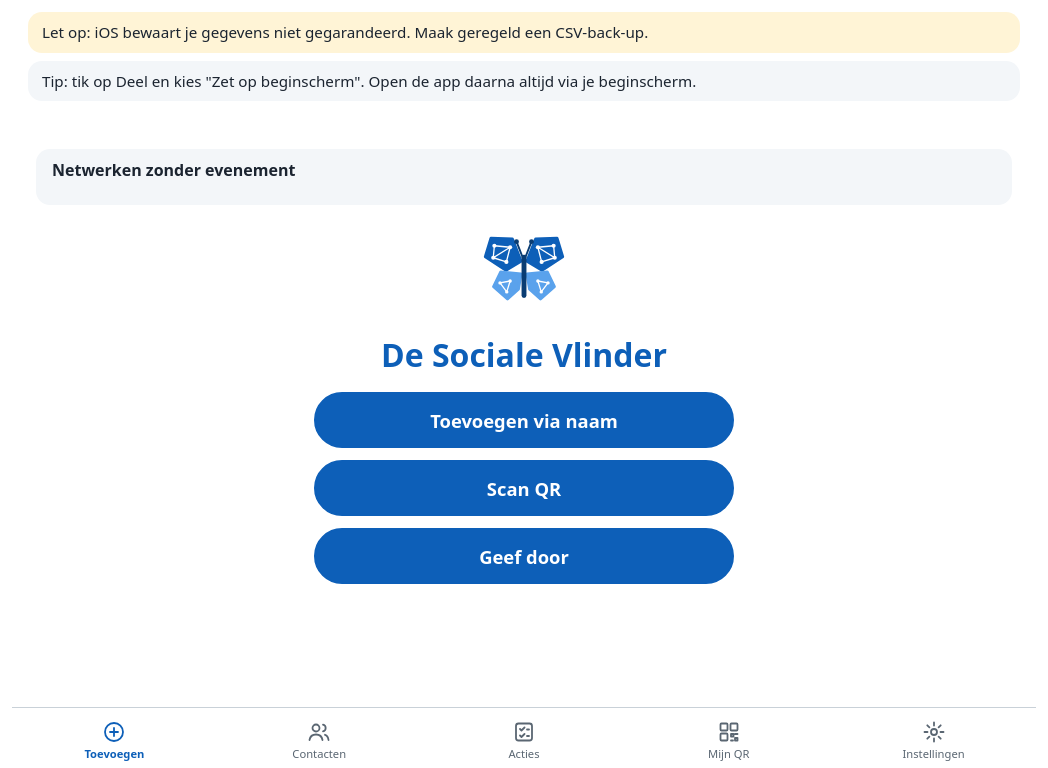
Contact list (F7 User Story 1) › shows a friendly empty message with a way to add someone
Click the button "Contacten" at (319,740), box [217, 712, 422, 767]
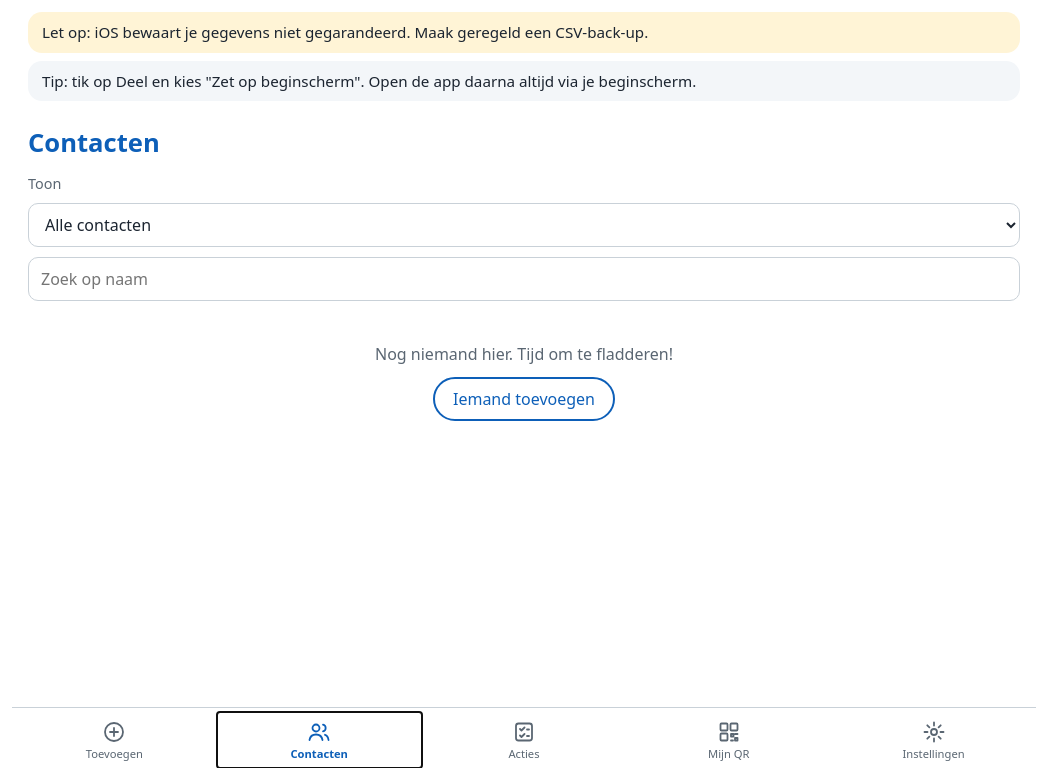
Check: the heading "Contacten" is shown, box [28, 125, 160, 160]
Check: the text "Nog niemand hier. Tijd om te fladderen!" is shown, box [375, 343, 673, 365]
Click the button "Iemand toevoegen" at (524,399), box [433, 377, 615, 421]
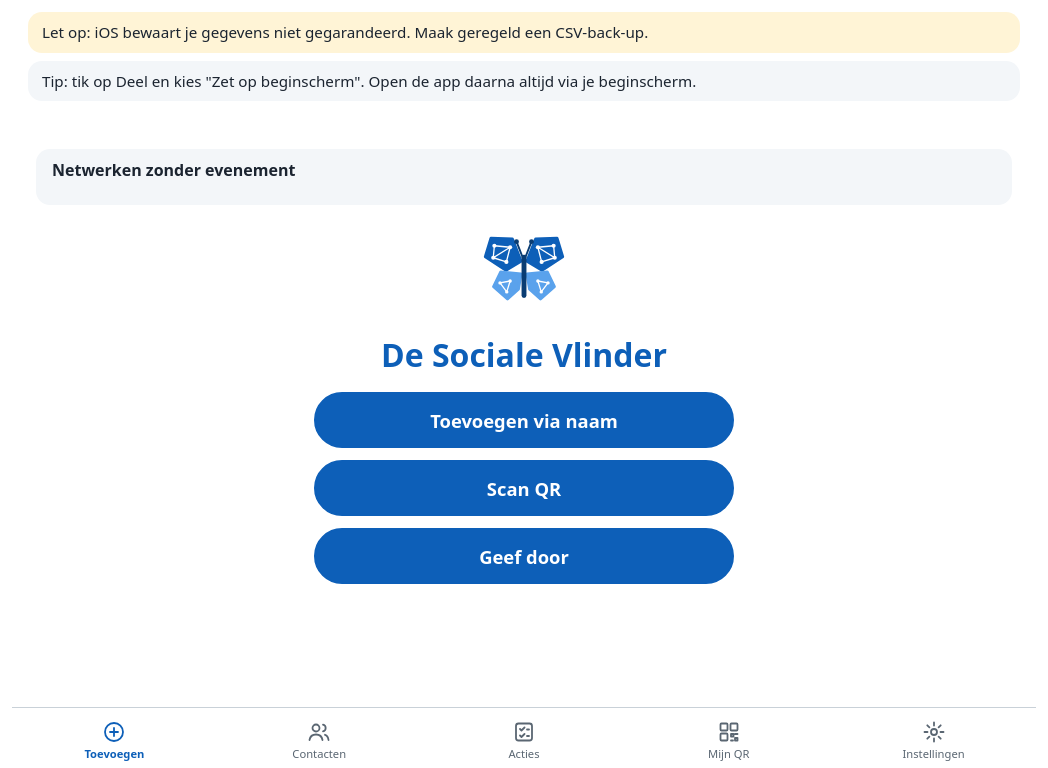
Check: the button "Toevoegen via naam" is shown, box [314, 392, 734, 448]
